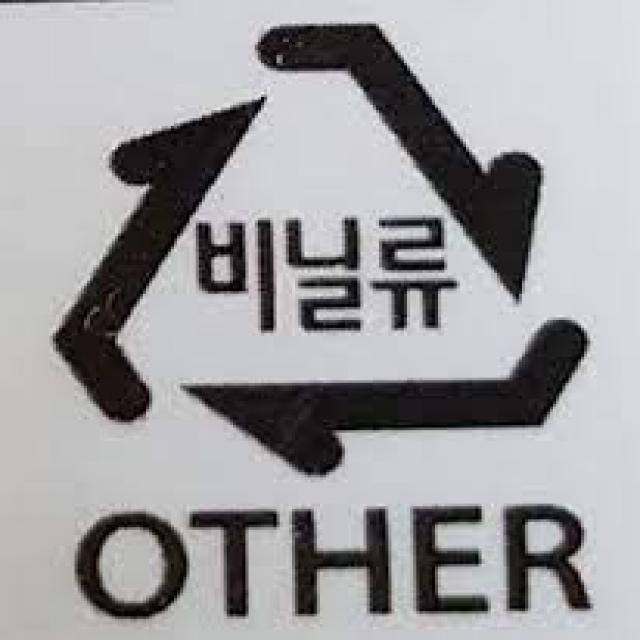Vinyl: (43, 10, 606, 485)
